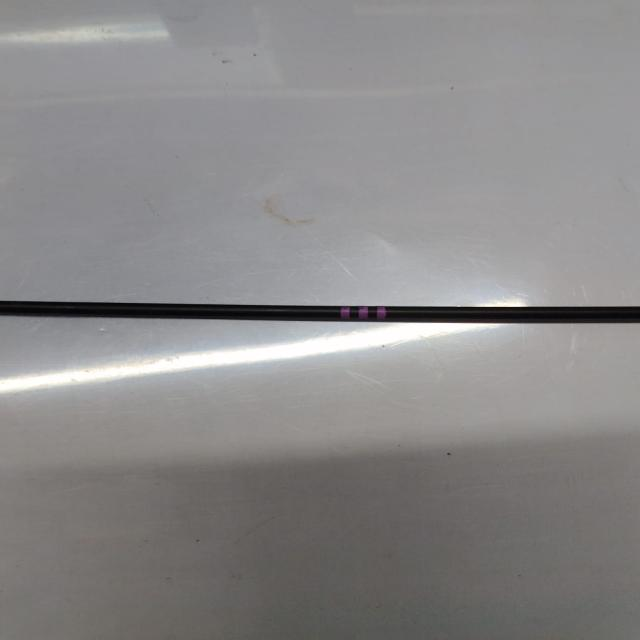pink: (342, 305, 387, 322)
